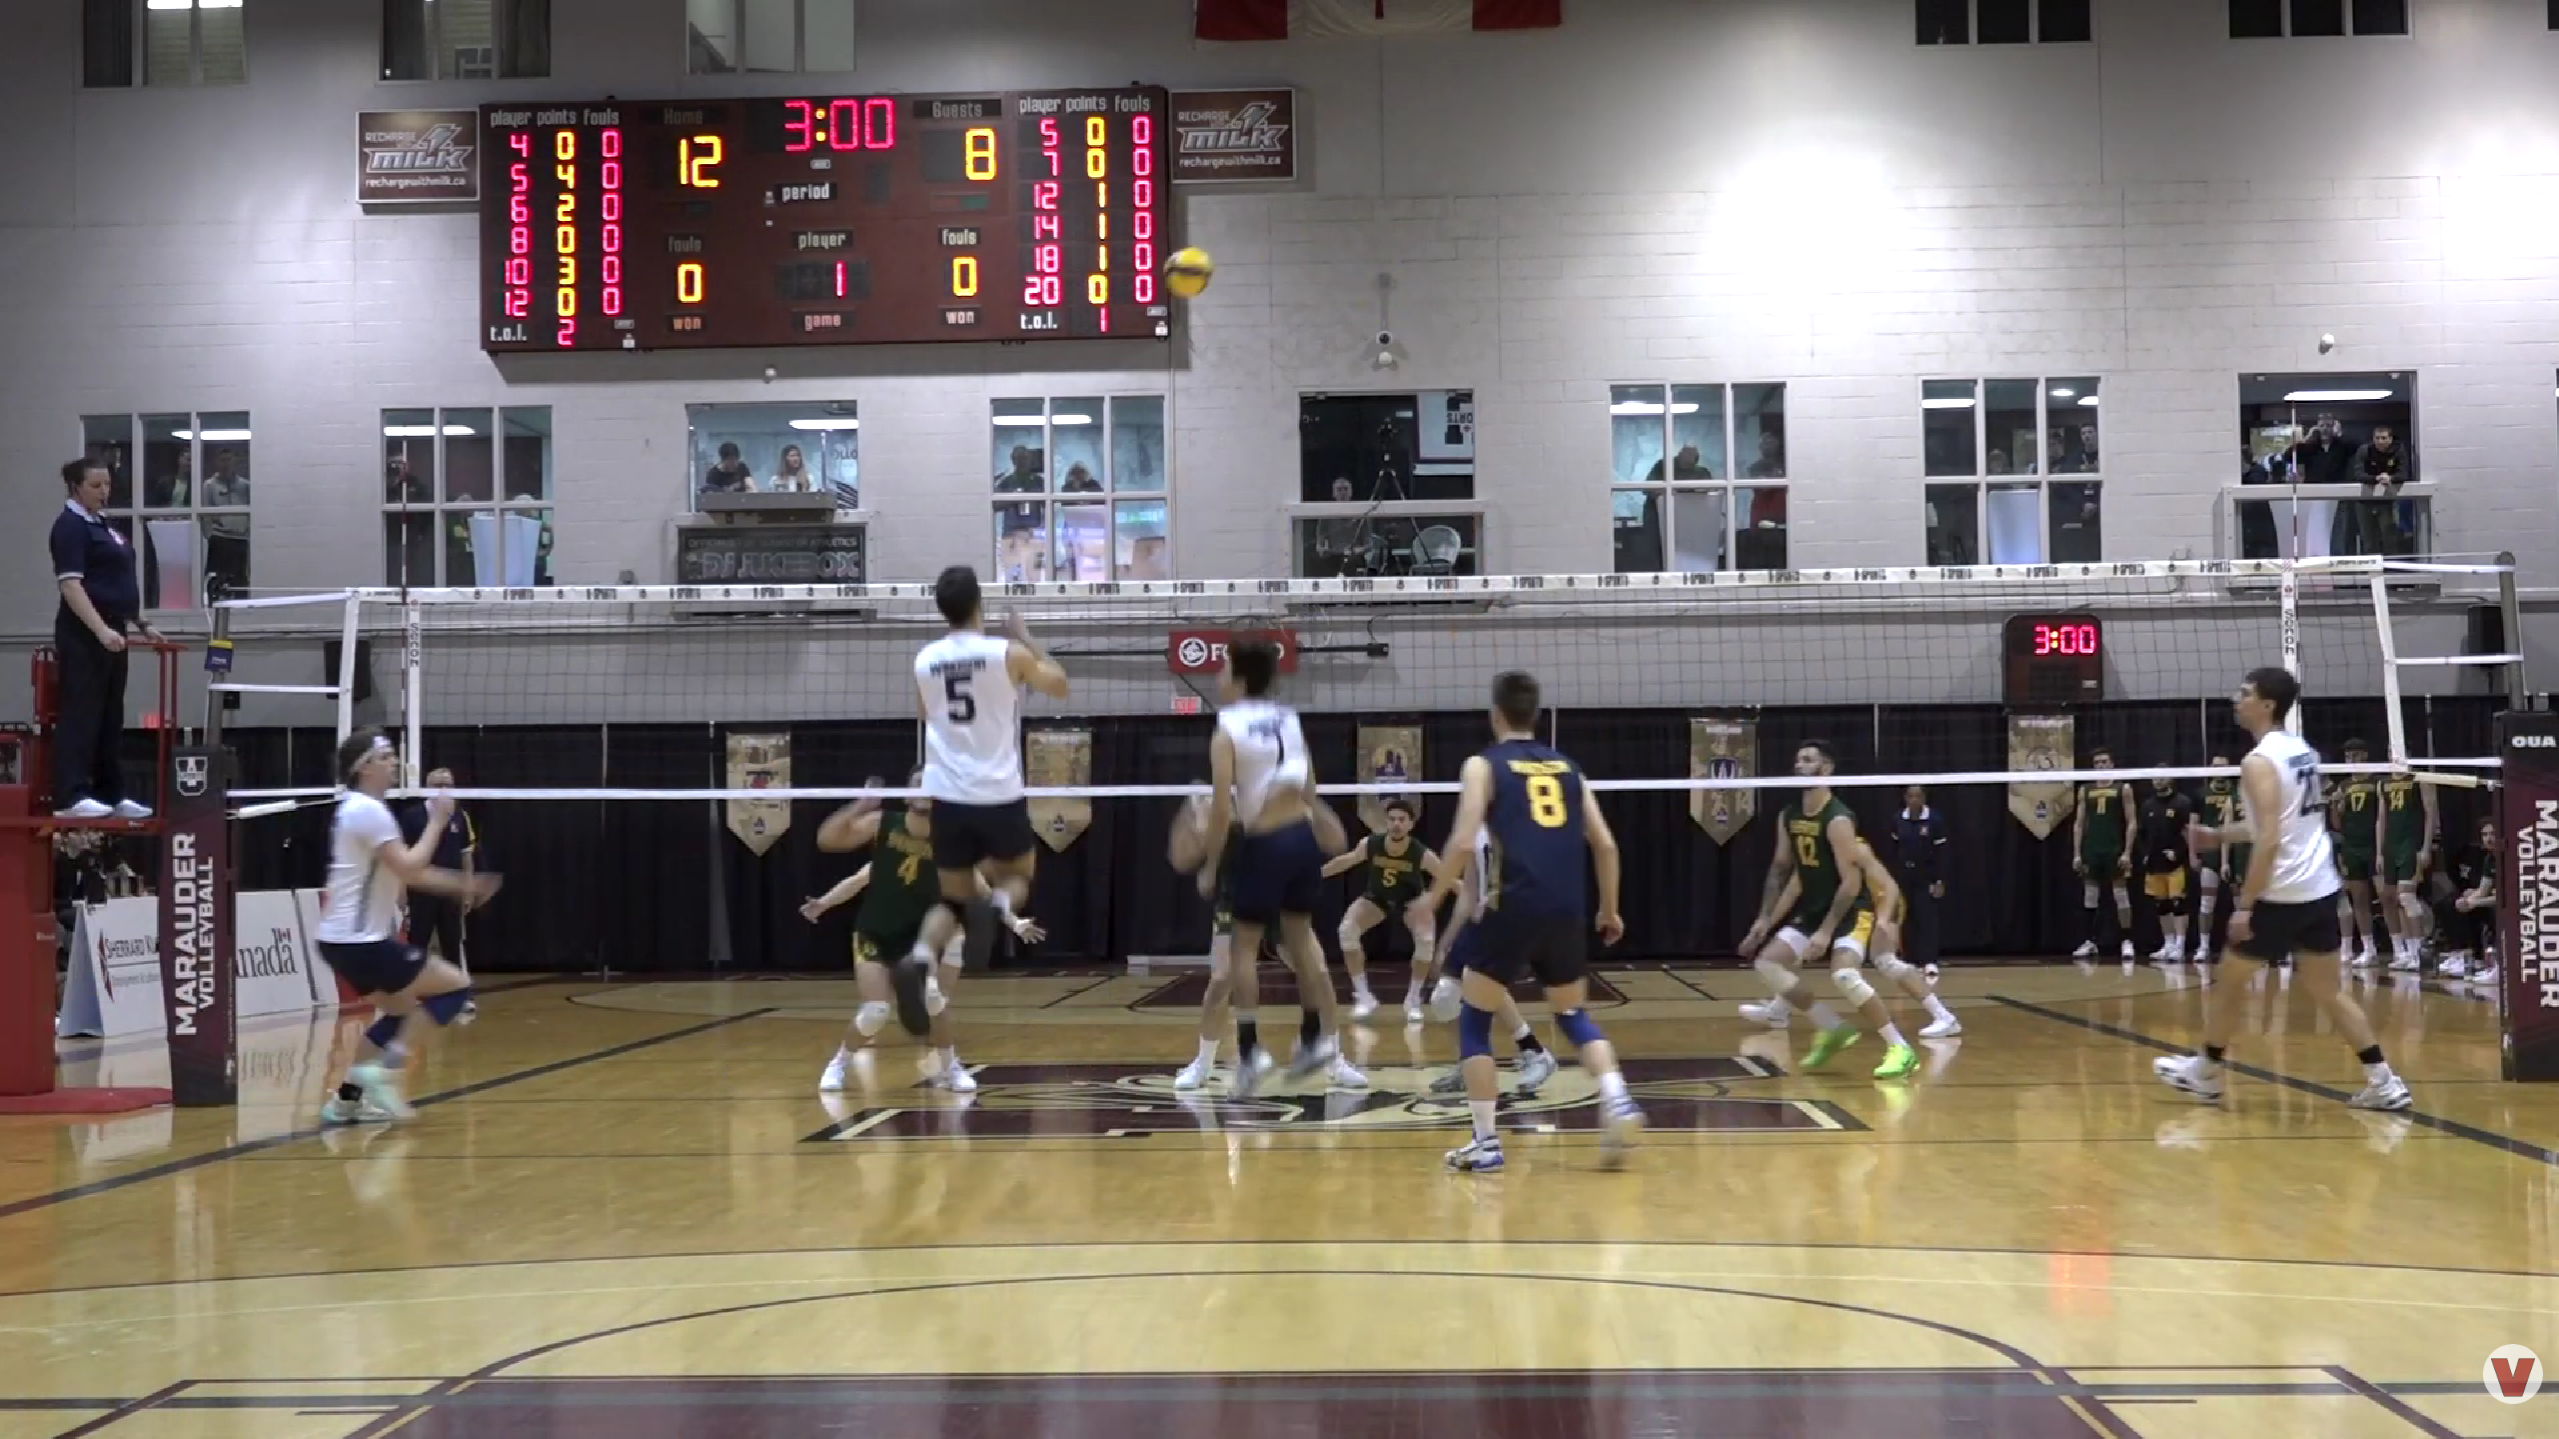Ball: (1160, 246, 1214, 299)
